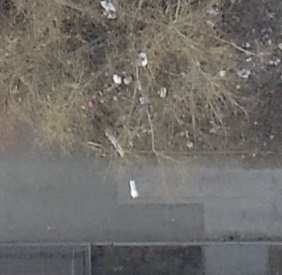opora: (100, 119, 140, 198)
